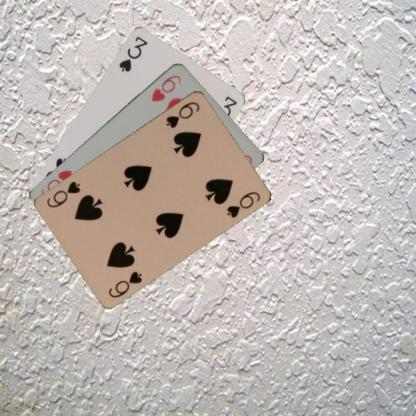3s: (116, 33, 149, 73)
6h: (149, 72, 183, 102)
6s: (106, 268, 144, 299), (164, 99, 201, 129)
